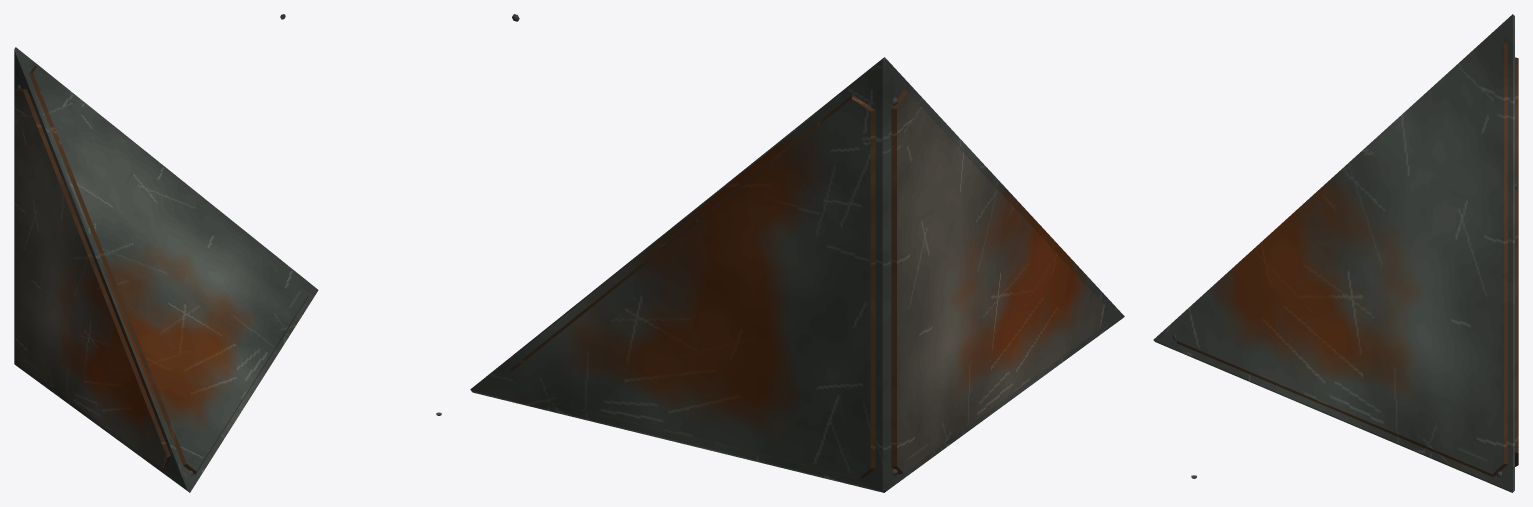
Rendered from R4B_Tetra.glb.
The picture shows the model from 3 angles, left to right: view 1: azimuth 30°, elevation 25°; view 2: azimuth 150°, elevation 25°; view 3: azimuth 270°, elevation 25°; orthographic projection. The views are drawn at different scales.
Parts seen in each view (by area): view 1: R4B_Tetra; view 2: R4B_Tetra; view 3: R4B_Tetra.
Part boxes in pixels (left/top/right/bottom): R4B_Tetra: left=14, top=14, right=441, bottom=492; R4B_Tetra: left=470, top=14, right=1124, bottom=492; R4B_Tetra: left=1153, top=14, right=1518, bottom=492.
Bounding box in the file's own units: 0.4954 × 0.4954 × 0.4954.
4 materials, 4 textured.
